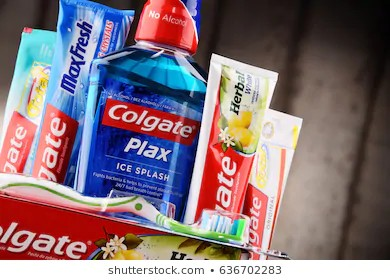colgate-Plax: (64, 2, 206, 212)
toothbrush: (1, 166, 249, 248)
